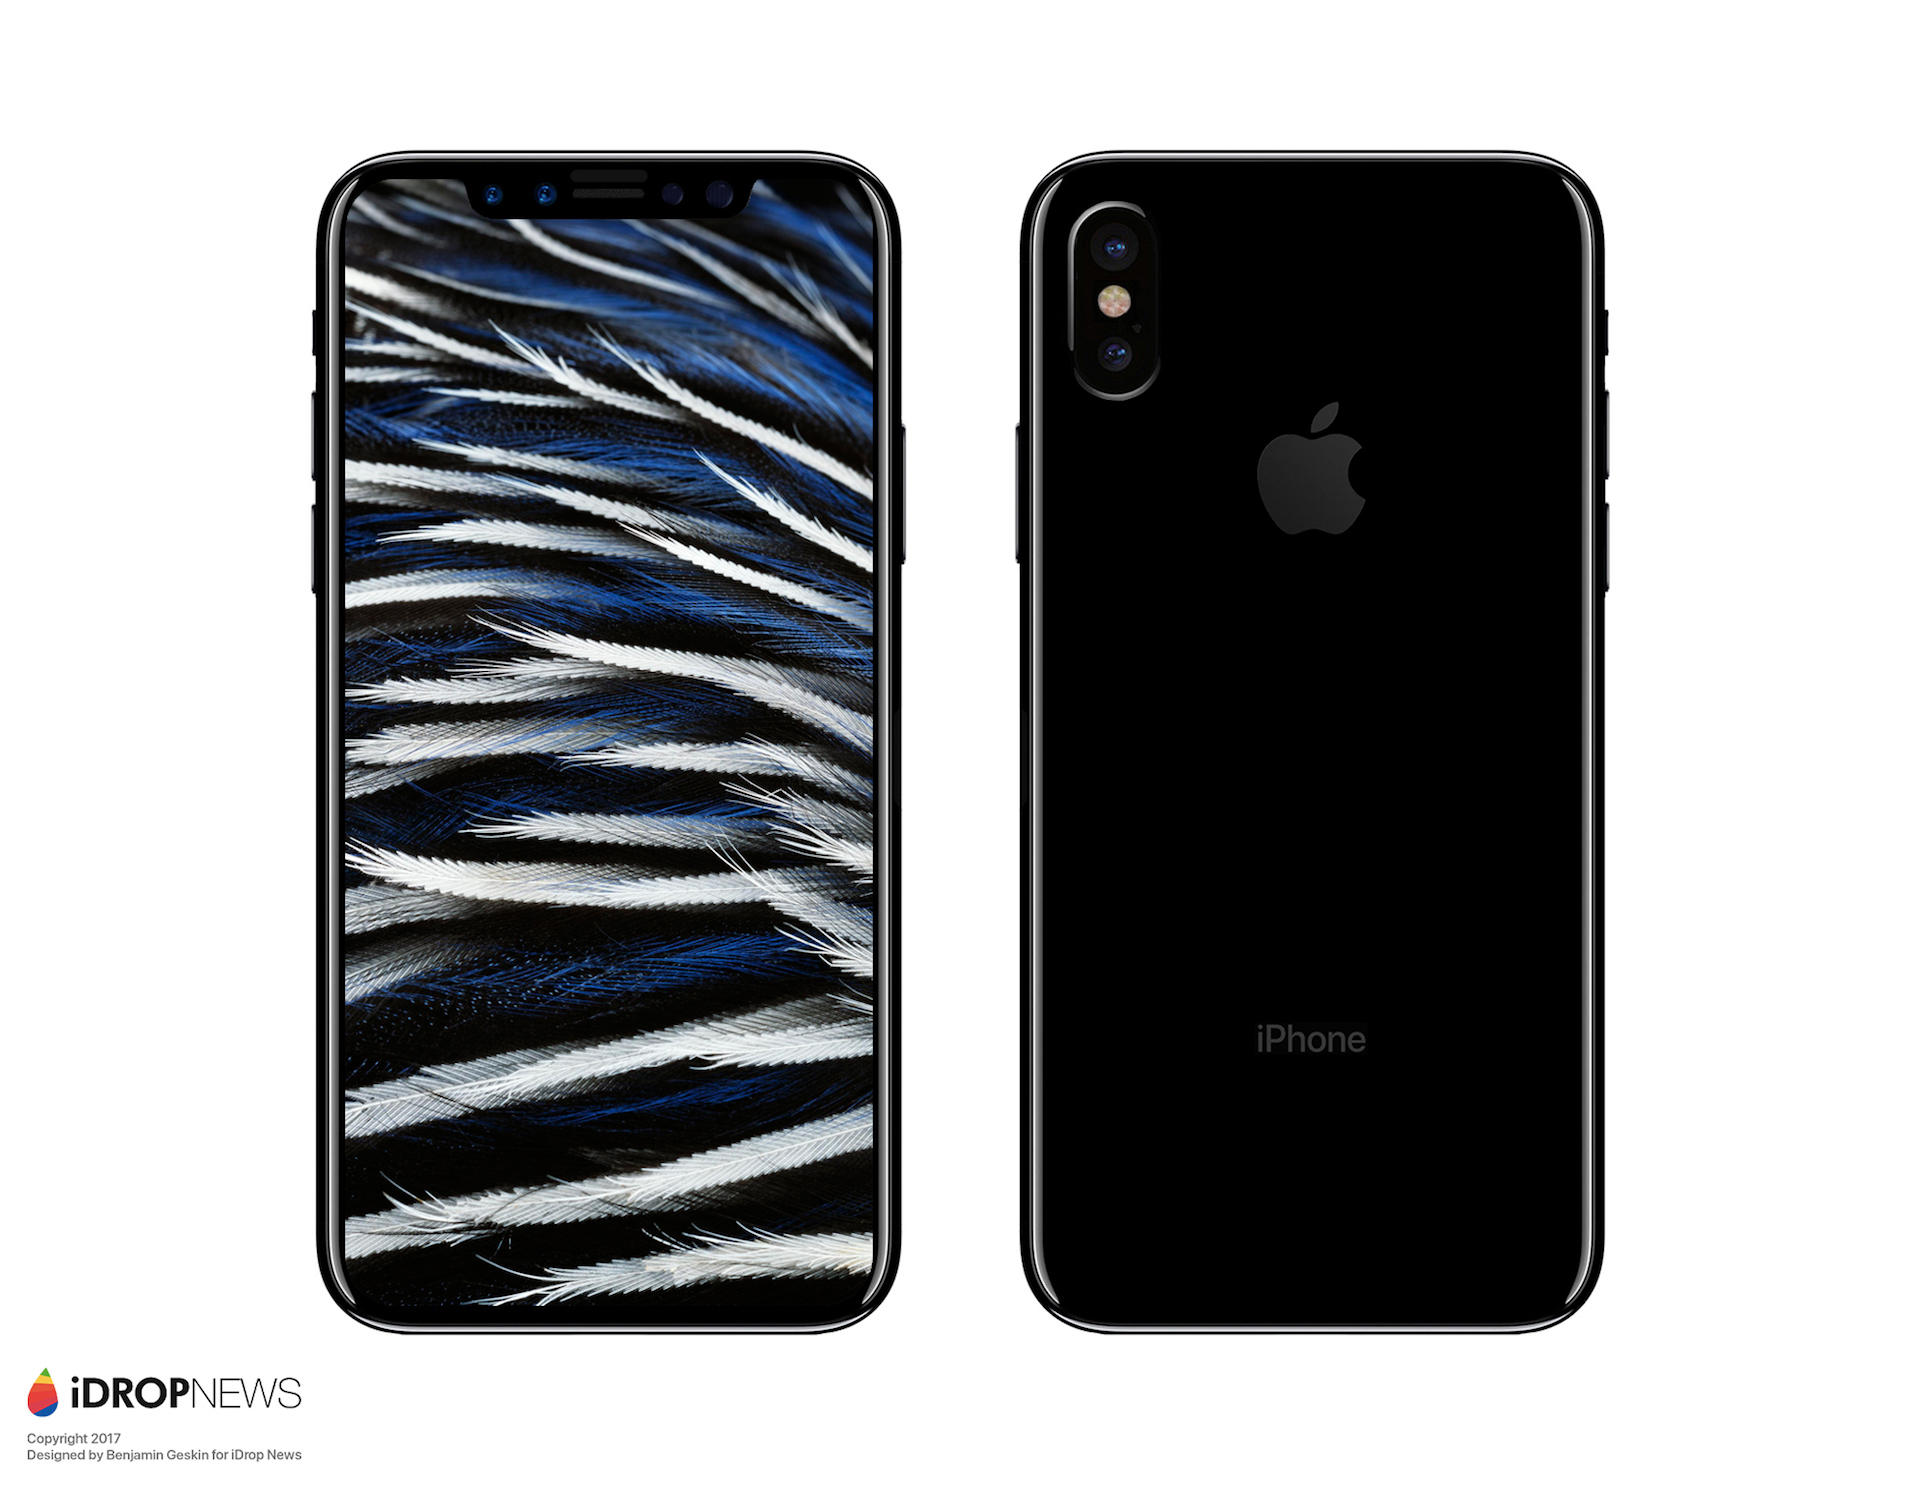smartphone: (1011, 150, 1618, 1340), (309, 142, 912, 1336)
